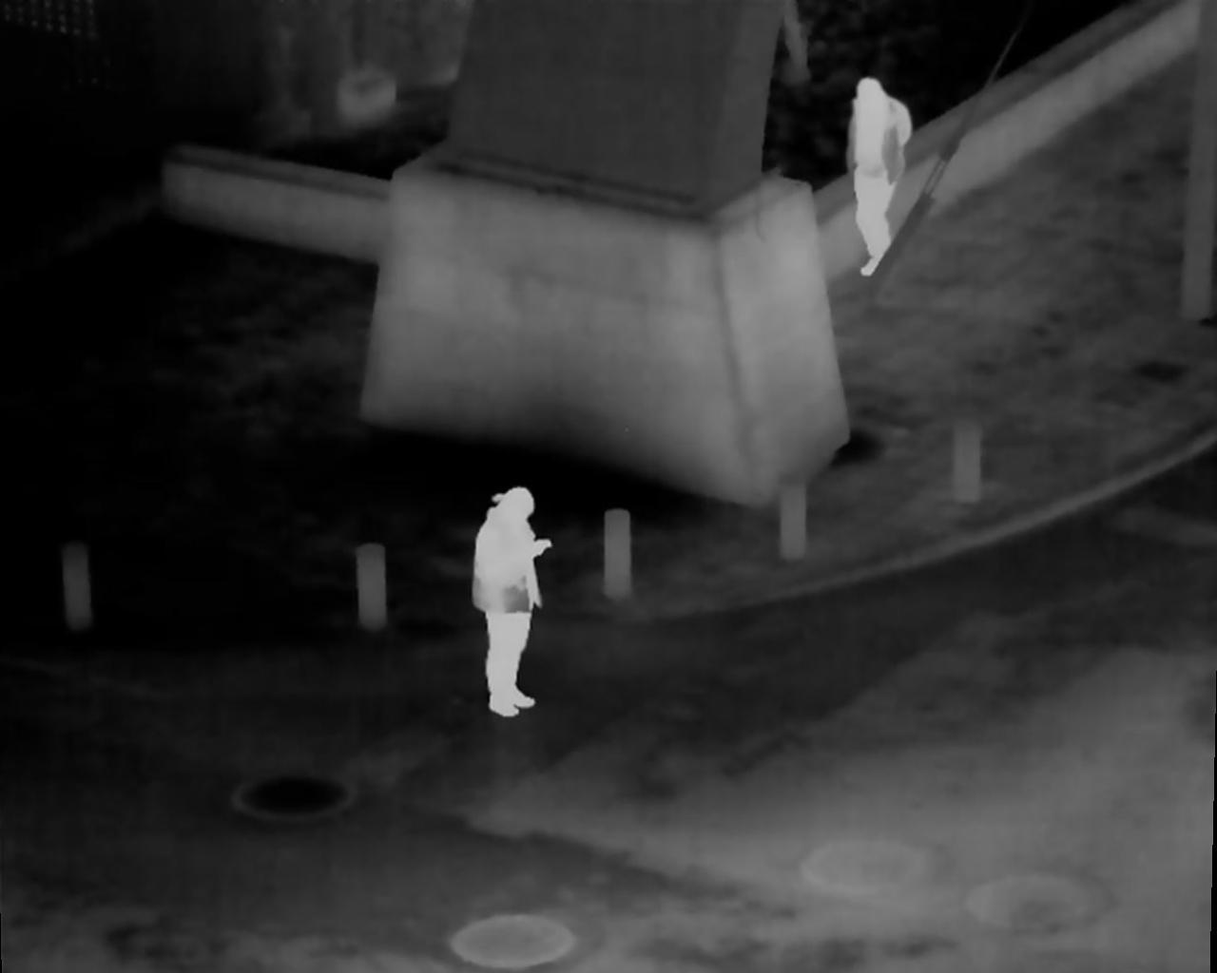person: (466, 487, 551, 731), (844, 75, 913, 277)
